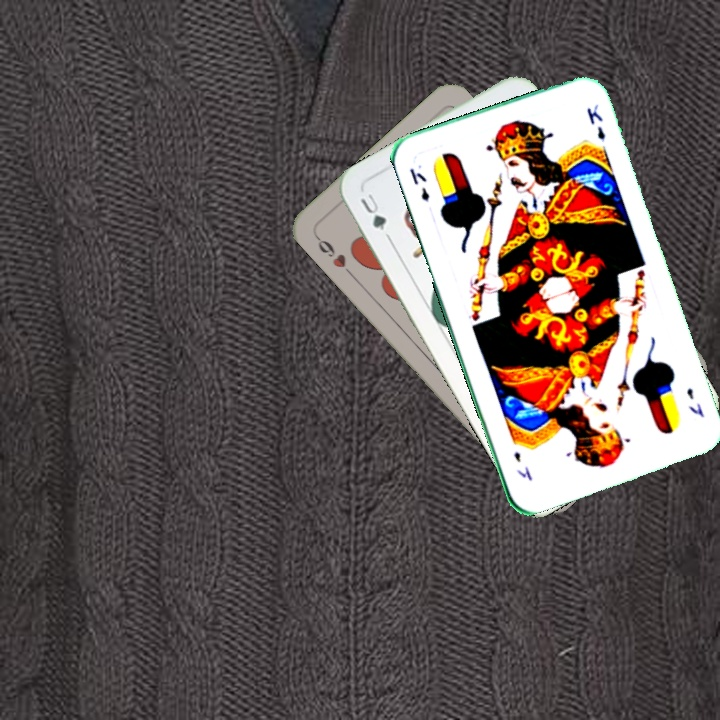EK: (405, 164, 432, 205), (682, 383, 707, 420)
GU: (356, 189, 389, 234)
H9: (311, 231, 355, 279)
